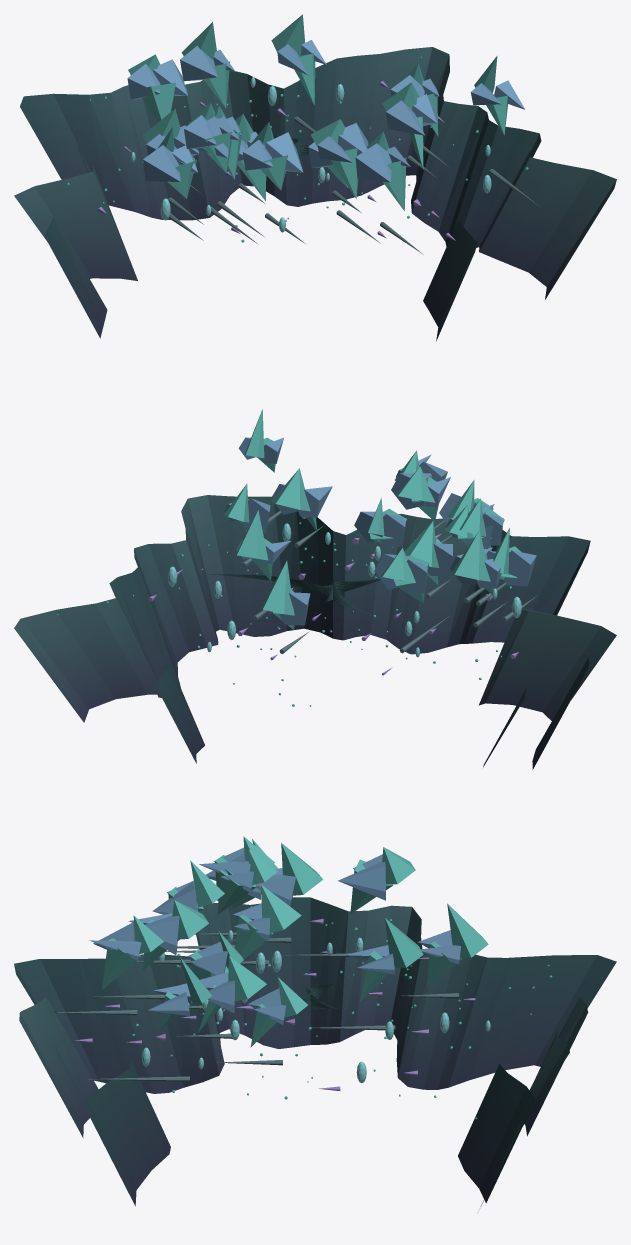
The model's file is hexcore_living_landscape_06.glb.
3 renders of one model, top to bottom at view 1: azimuth 30°, elevation 25°; view 2: azimuth 150°, elevation 25°; view 3: azimuth 270°, elevation 25°, orthographic. The views are drawn at different scales.
Visible parts, largest first — view 1: ELVEN_GROWN_TERRAIN, SCULPTURAL_ELVEN_CANOPIES, BIO_LUMINESCENT_GROUND_LIFE; view 2: ELVEN_GROWN_TERRAIN, SCULPTURAL_ELVEN_CANOPIES, BIO_LUMINESCENT_GROUND_LIFE; view 3: ELVEN_GROWN_TERRAIN, SCULPTURAL_ELVEN_CANOPIES, BIO_LUMINESCENT_GROUND_LIFE.
Boxes of the visible parts, x1,y1,x2,y2 form: ELVEN_GROWN_TERRAIN: [14, 47, 616, 341]; SCULPTURAL_ELVEN_CANOPIES: [127, 14, 540, 254]; BIO_LUMINESCENT_GROUND_LIFE: [67, 56, 528, 242]; ELVEN_GROWN_TERRAIN: [14, 495, 616, 769]; SCULPTURAL_ELVEN_CANOPIES: [224, 409, 536, 653]; BIO_LUMINESCENT_GROUND_LIFE: [57, 517, 521, 706]; ELVEN_GROWN_TERRAIN: [14, 897, 616, 1206]; SCULPTURAL_ELVEN_CANOPIES: [53, 836, 488, 1081]; BIO_LUMINESCENT_GROUND_LIFE: [74, 906, 552, 1119].
Size of the model in its own units: 92.94 by 45.42 by 96.04.
